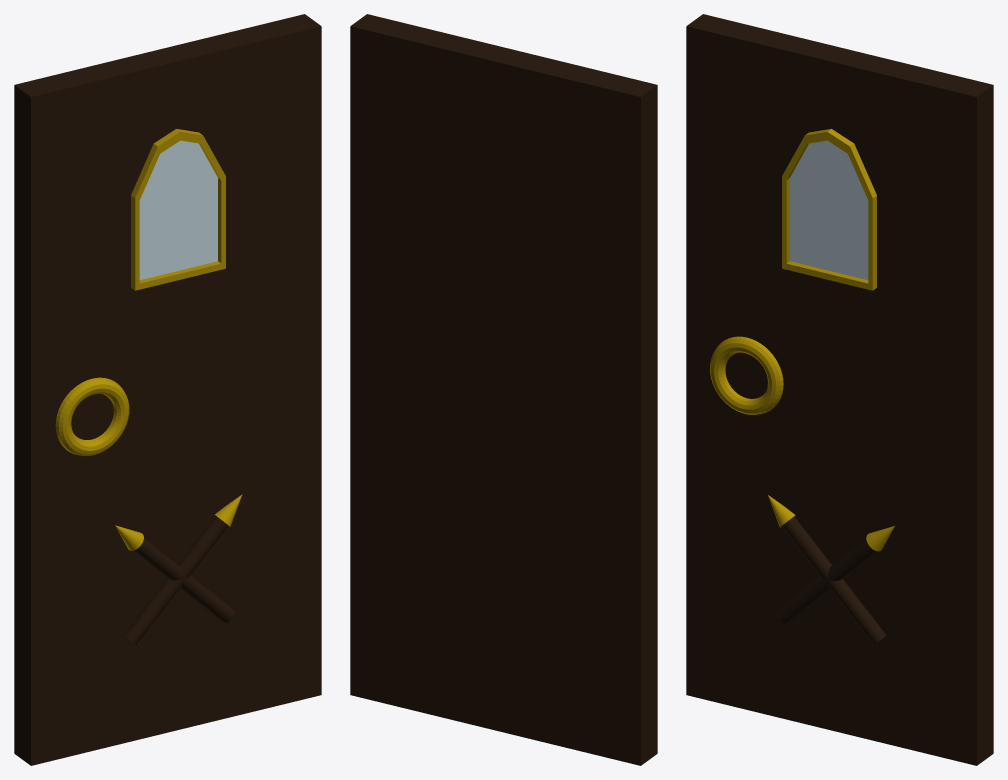
Rendered from casinoDoorR.fbx.
The picture shows the model from 3 angles, left to right: view 1: azimuth 30°, elevation 25°; view 2: azimuth 150°, elevation 25°; view 3: azimuth 330°, elevation 25°; orthographic projection.
Parts seen in each view (by area): view 1: Cube; view 2: Cube; view 3: Cube.
Boxes of the visible parts, box(x1,y1,x2,y2) form: Cube: box(14, 14, 321, 765); Cube: box(350, 14, 657, 765); Cube: box(686, 14, 993, 765).
Size of the model in its own units: 100 by 220 by 13.92.
